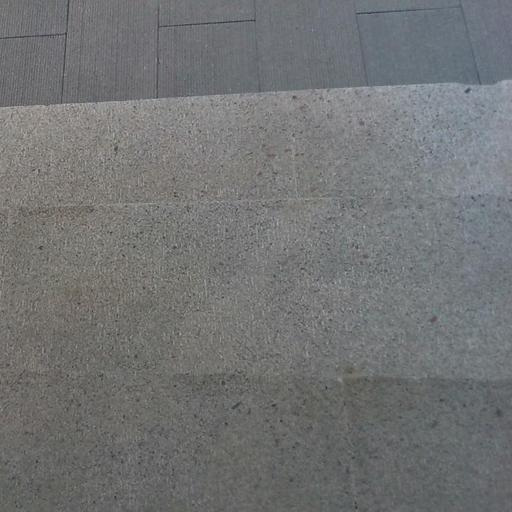stairs: (0, 82, 511, 511)
